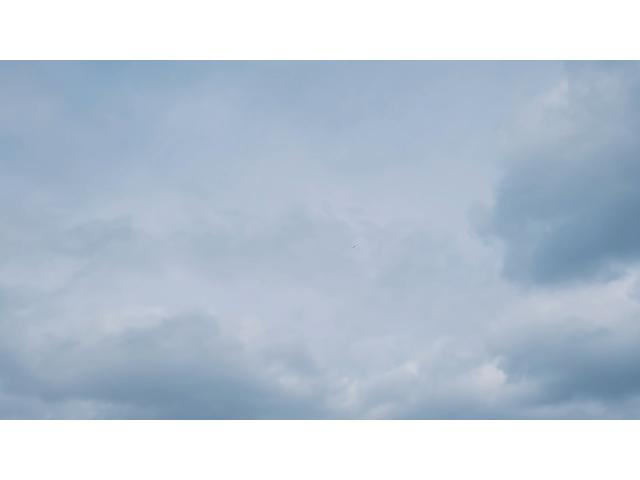Anti-Drone: (348, 241, 358, 253)
